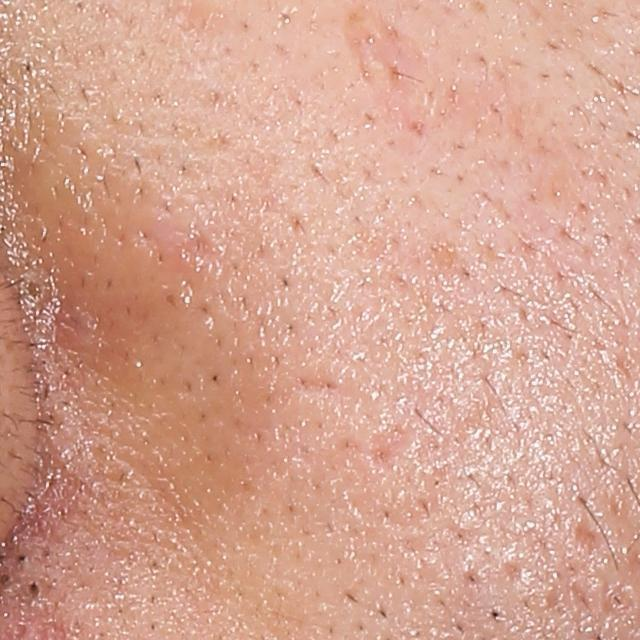atrophic_scar: (339, 8, 429, 95), (363, 423, 416, 470), (289, 372, 344, 399), (574, 519, 611, 553)
comedo: (17, 575, 50, 601)
